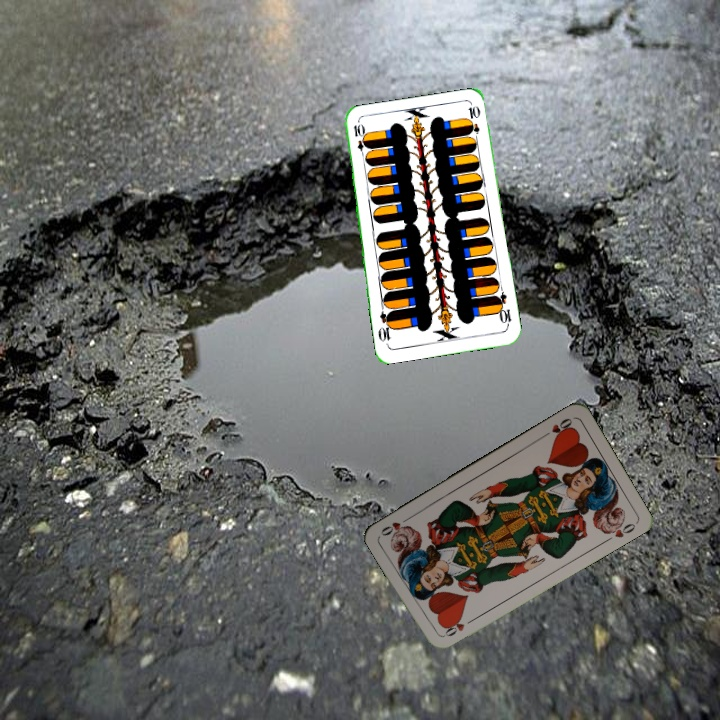E10: (492, 289, 514, 329), (349, 120, 368, 161)
HO: (539, 414, 575, 440), (438, 613, 467, 640)
